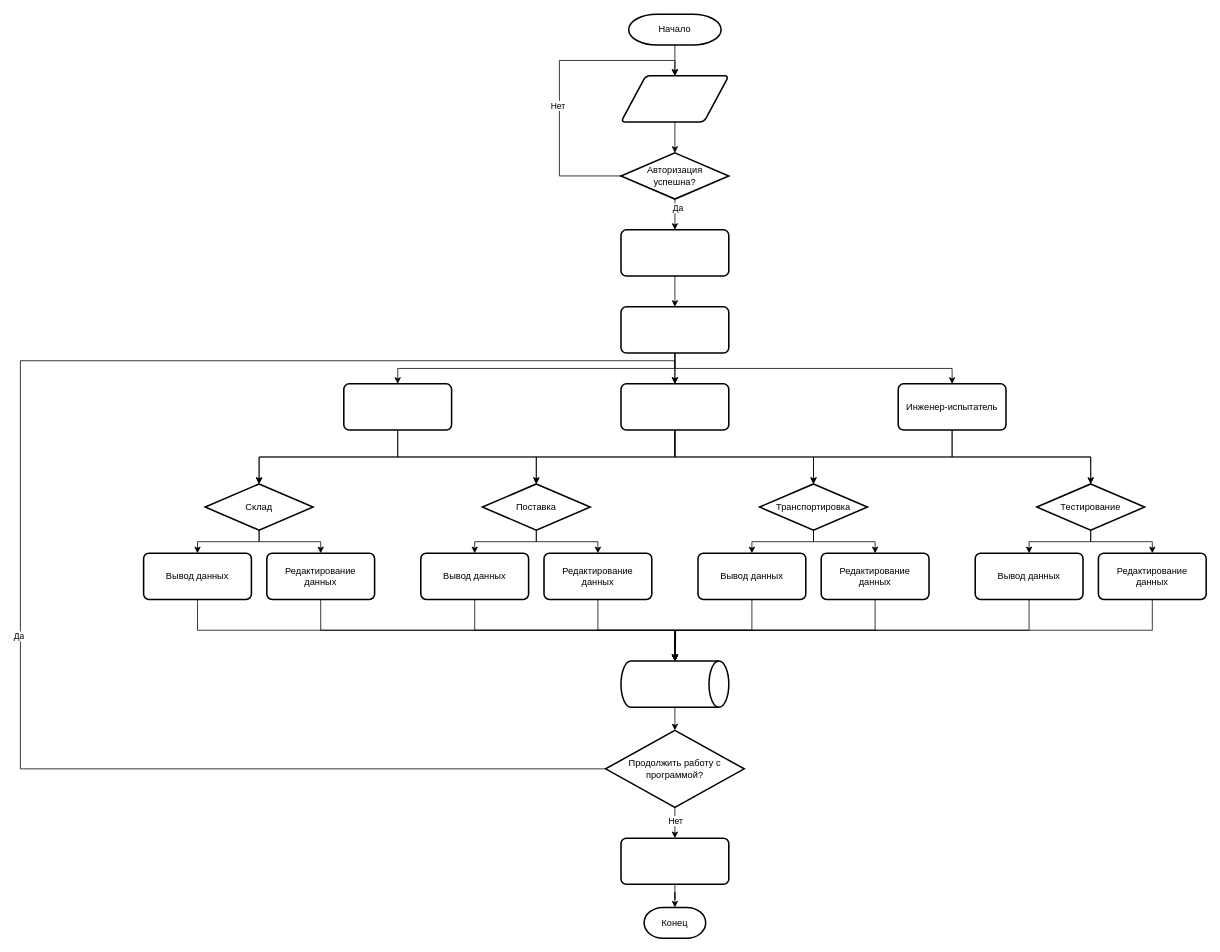
The diagram is 1220 pixels wide and 952 high, and some of its shapes have lost their labels. Each missing label, with the centre of its shape:
Администратор: point (674, 406)
Ввод логина и пароля: point (674, 98)
Завершение работы программы: point (674, 861)
Инженер-конструктор: point (397, 406)
Определение роли пользователя: point (674, 252)
Определение уровня доступа: point (674, 329)
Сохранение данных в базе данных: point (674, 684)
